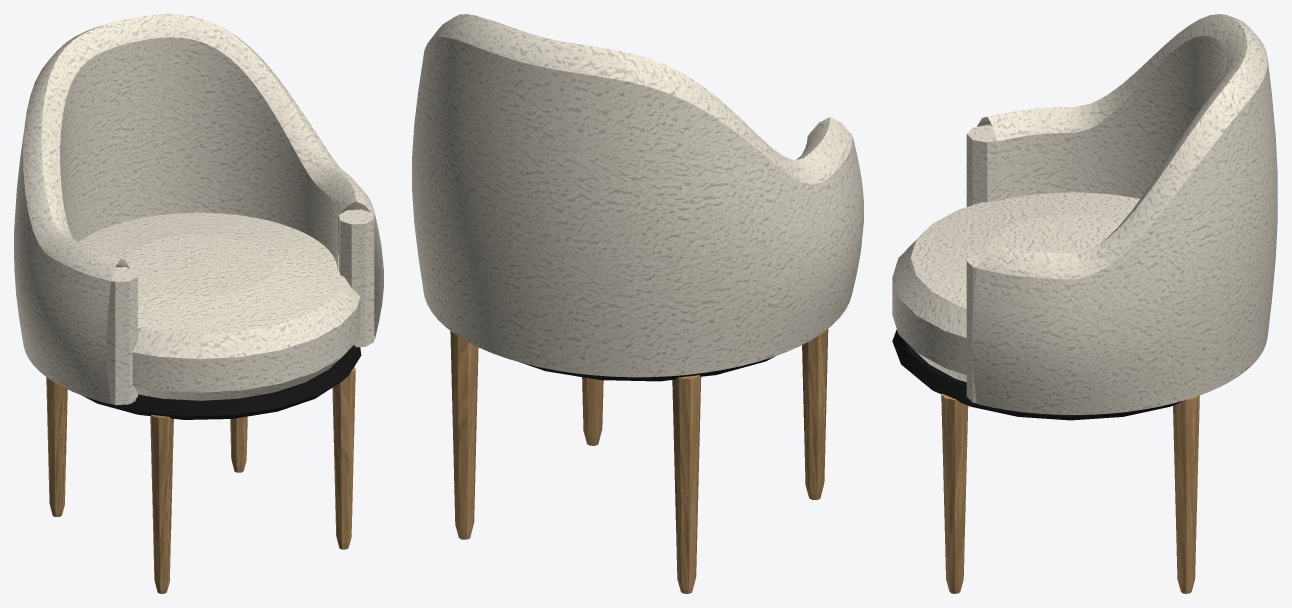
Rendered from tub_boucle.glb.
3 views of the same model, side by side, from view 1: azimuth 30°, elevation 25°; view 2: azimuth 150°, elevation 25°; view 3: azimuth 270°, elevation 25° (orthographic). The views are drawn at different scales.
Visible parts, largest first — view 1: tub_boucle; view 2: tub_boucle; view 3: tub_boucle.
Boxes of the visible parts, <box> form: tub_boucle: <box>14,14,383,593</box>; tub_boucle: <box>412,14,863,593</box>; tub_boucle: <box>892,14,1277,593</box>.
Size of the model in its own units: 0.5992 by 0.808 by 0.5663.
3 materials, 2 textured.
